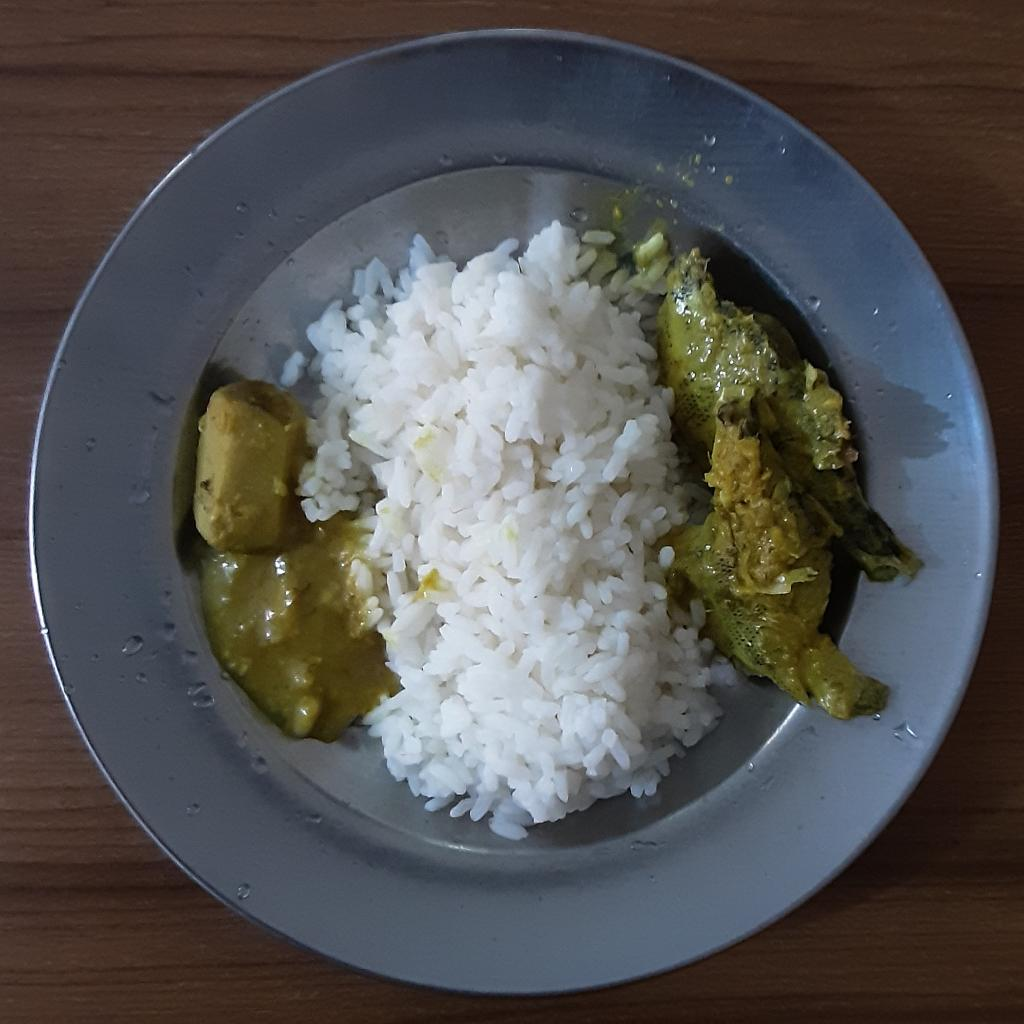fish: (659, 245, 932, 719)
kochu: (196, 377, 402, 748)
rice: (283, 218, 742, 840)
